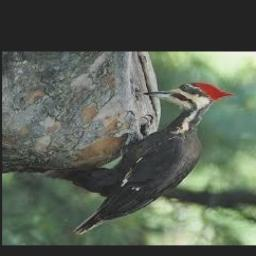Woodpecker: (72, 83, 234, 233)
